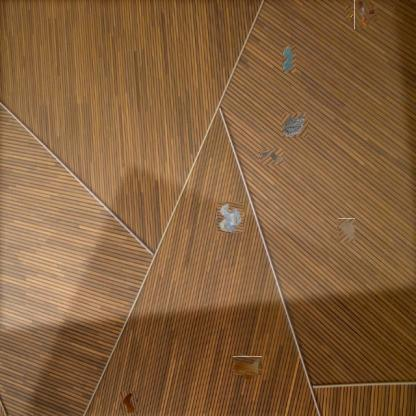dirty: (215, 203, 245, 231), (282, 113, 308, 137), (350, 2, 373, 25), (338, 218, 356, 241), (122, 391, 138, 415), (259, 148, 283, 164)
liquid: (235, 354, 260, 378), (282, 46, 296, 72)
